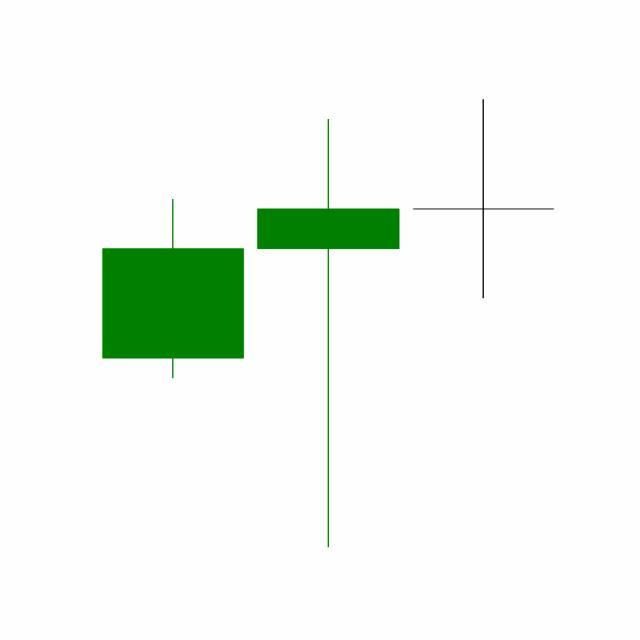Dragonfly Doji: (250, 114, 407, 553)
